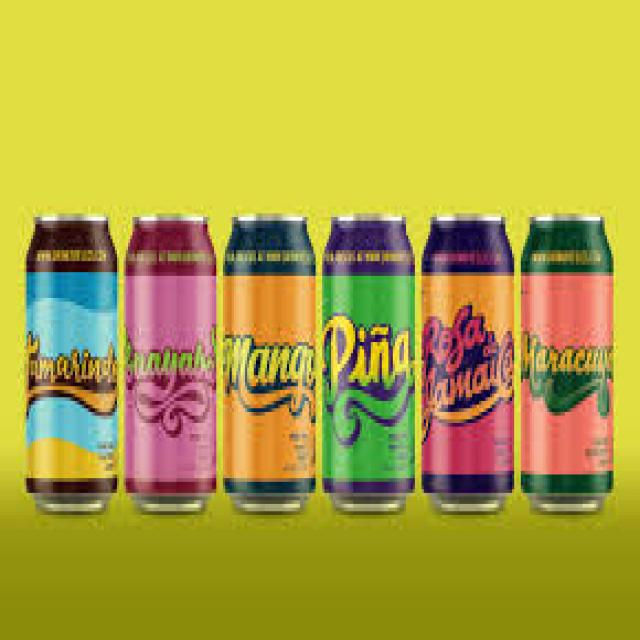Cans: (216, 206, 322, 526), (20, 206, 126, 522), (516, 202, 622, 515), (318, 206, 421, 522), (119, 210, 221, 522), (415, 206, 516, 519)
